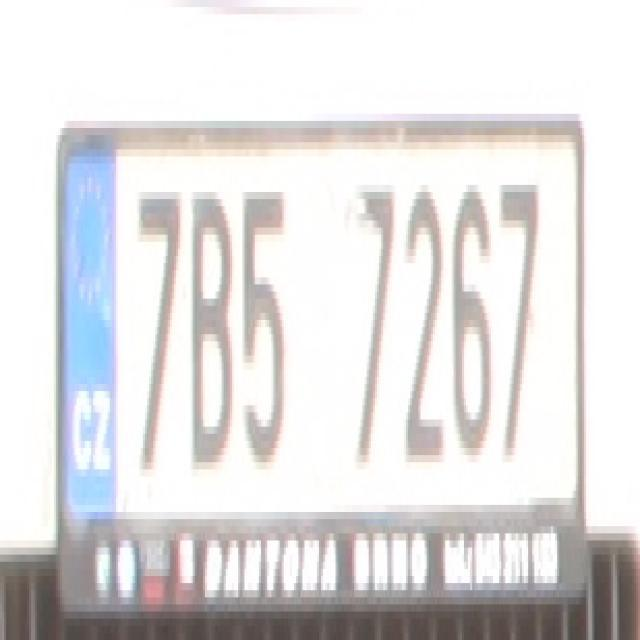2: (404, 185, 442, 462)
5: (238, 185, 286, 462)
6: (449, 185, 491, 462)
7: (132, 192, 182, 469), (351, 178, 394, 477), (497, 170, 541, 448)
B: (188, 185, 232, 470)
